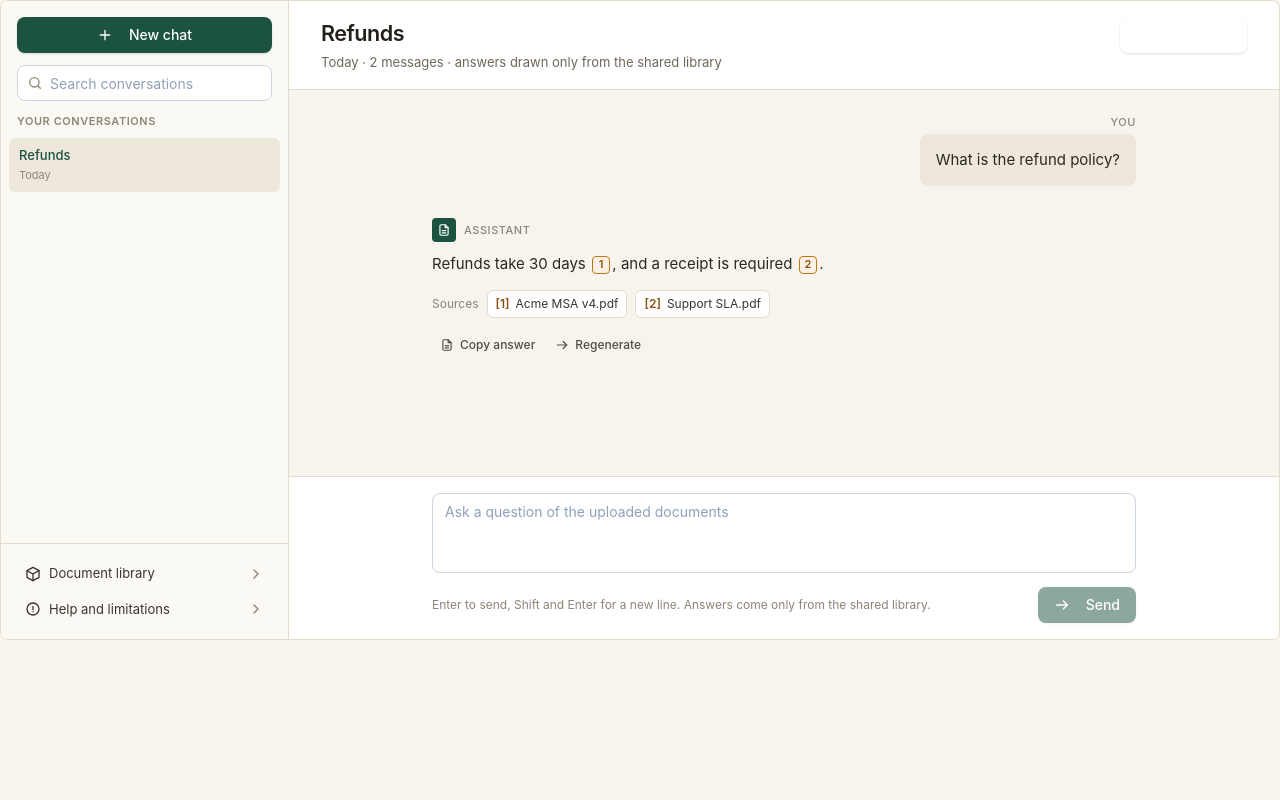
Test case: Chat screen › citation panel: navigation, scroll, focus (AC-107..110) › shows the same document name, location and chunk text from GET /conversations/{id} citations on reopen (AC-110)
This screenshot has width=1280, height=800.
Check: the text "Refunds take 30 days" is shown, box [432,254,590,273]
Click the button named "Source 2: Support SLA.pdf".
click(808, 265)  # box [799,256,817,274]
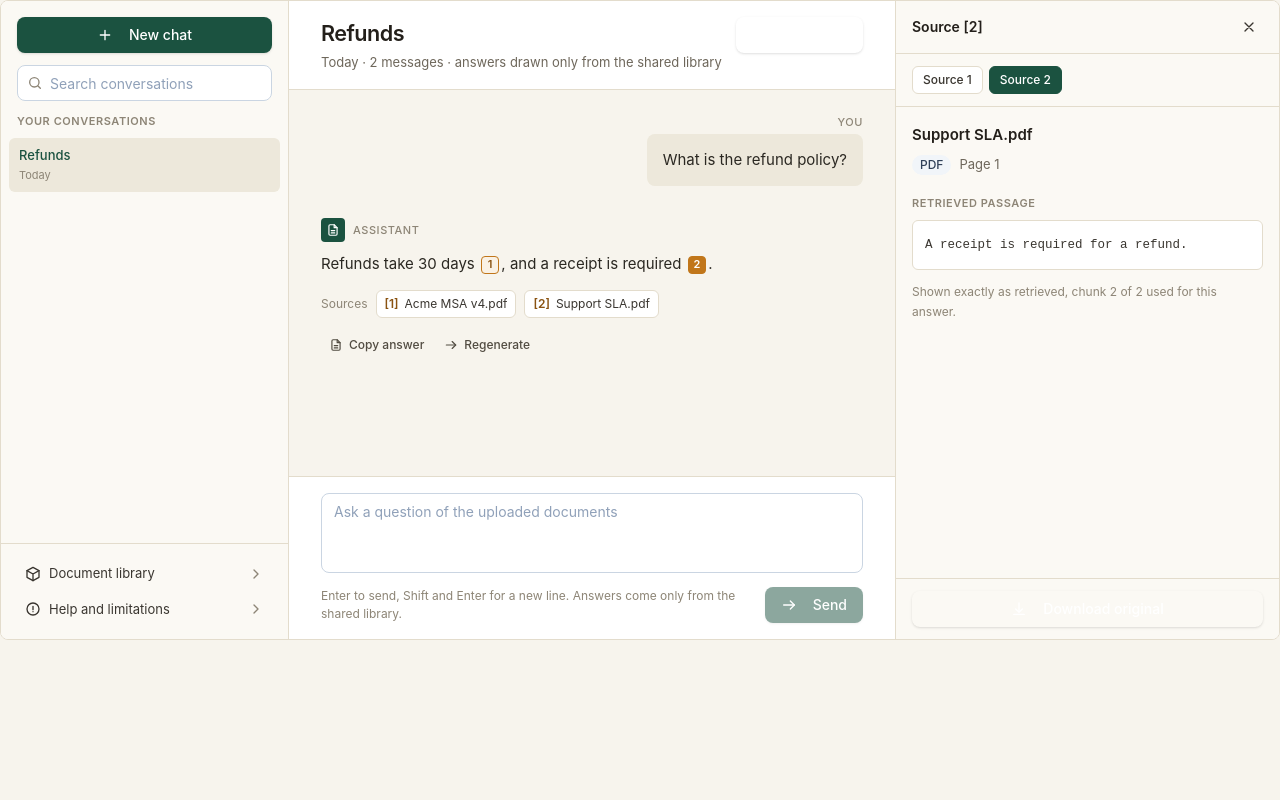
Check: the heading "Support SLA.pdf" is shown, box [912,125,1033,144]
Check: the text "Page 1" is shown, box [959,155,1000,175]
Check: the text "A receipt is required for a refund." is shown, box [912,220,1263,270]
